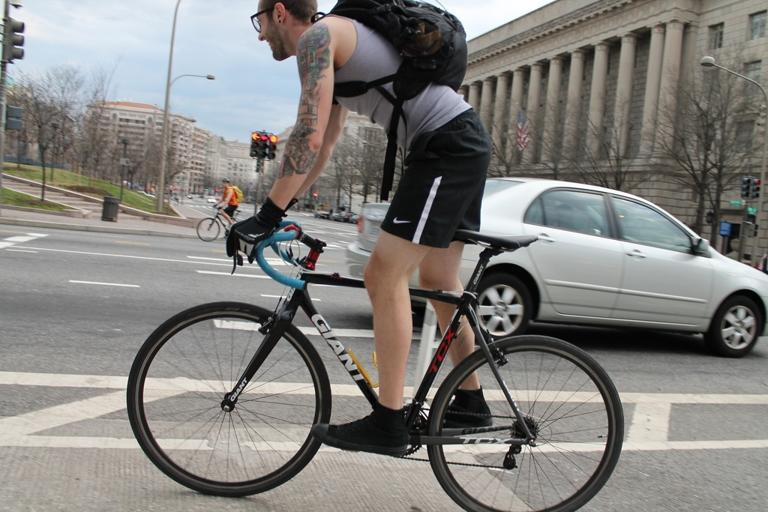non-vehicle: (126, 217, 624, 512), (196, 204, 240, 241)
